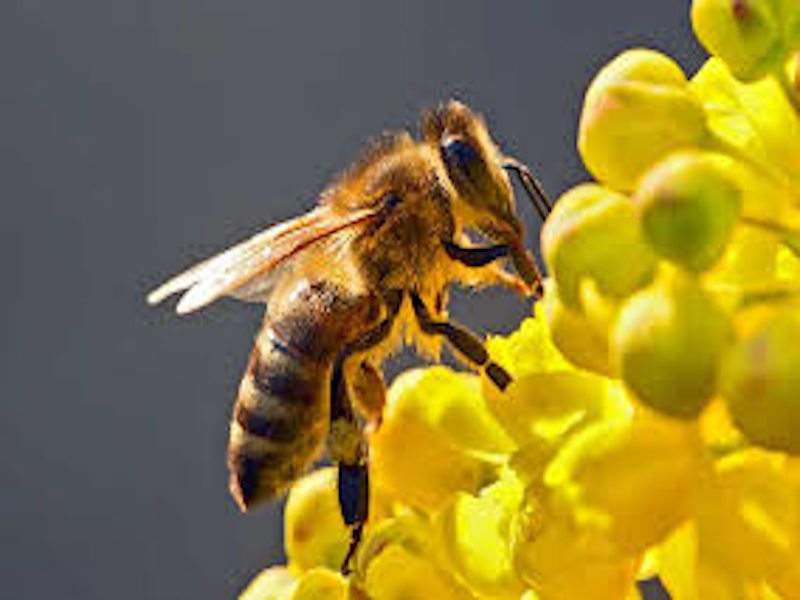abeja: (139, 87, 603, 591)
